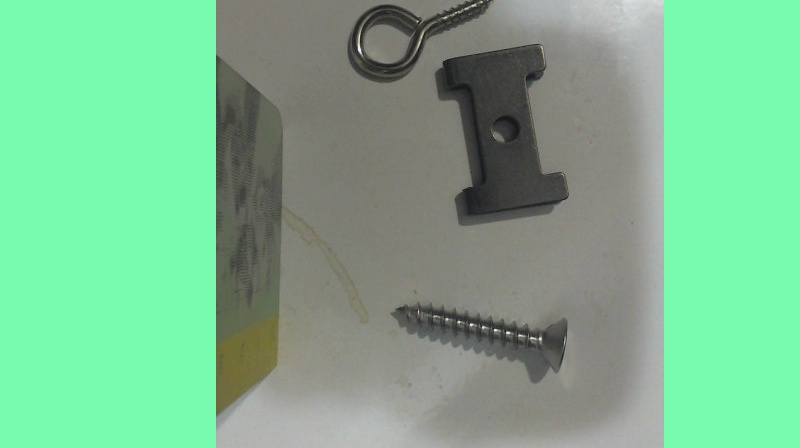O001: (345, 0, 495, 84)
O002: (442, 39, 571, 217)
S001: (393, 301, 571, 377)
